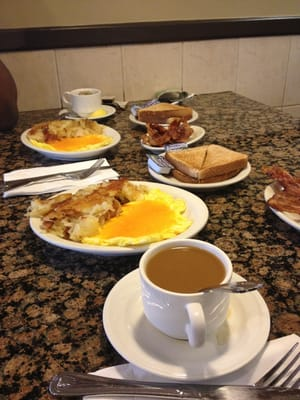burger: (65, 339, 300, 400)
pizza: (138, 239, 236, 349)
sandwich: (45, 369, 299, 400)
